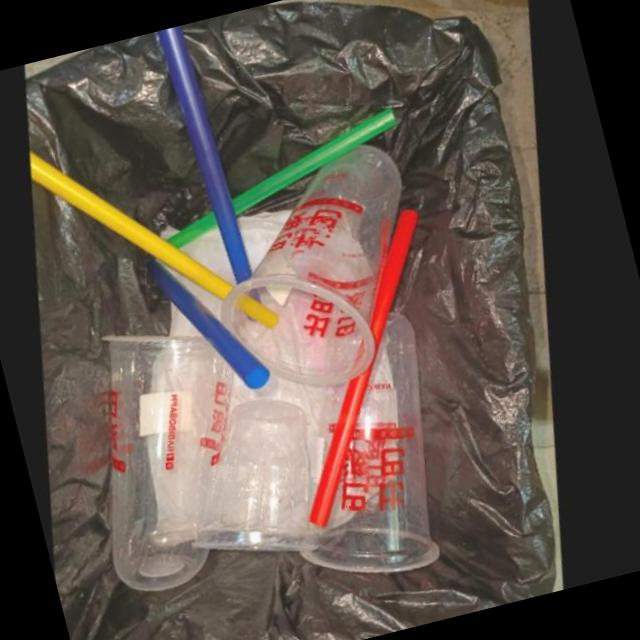hop_nhua: (226, 139, 404, 380), (307, 307, 448, 567), (107, 331, 239, 587), (199, 395, 326, 546)
ong_hut_nhua: (317, 204, 422, 522), (30, 148, 237, 296), (157, 25, 256, 282), (234, 104, 399, 211), (149, 256, 275, 385), (169, 208, 221, 245), (240, 291, 284, 325)
